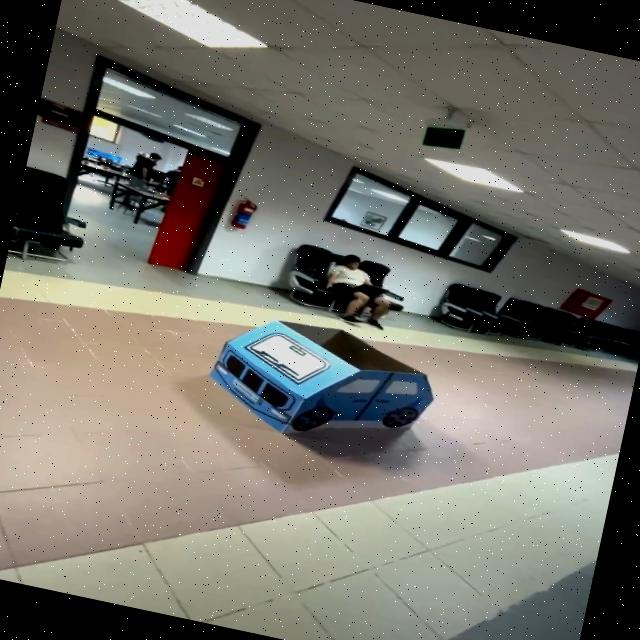blue_car: (149, 281, 484, 498)
